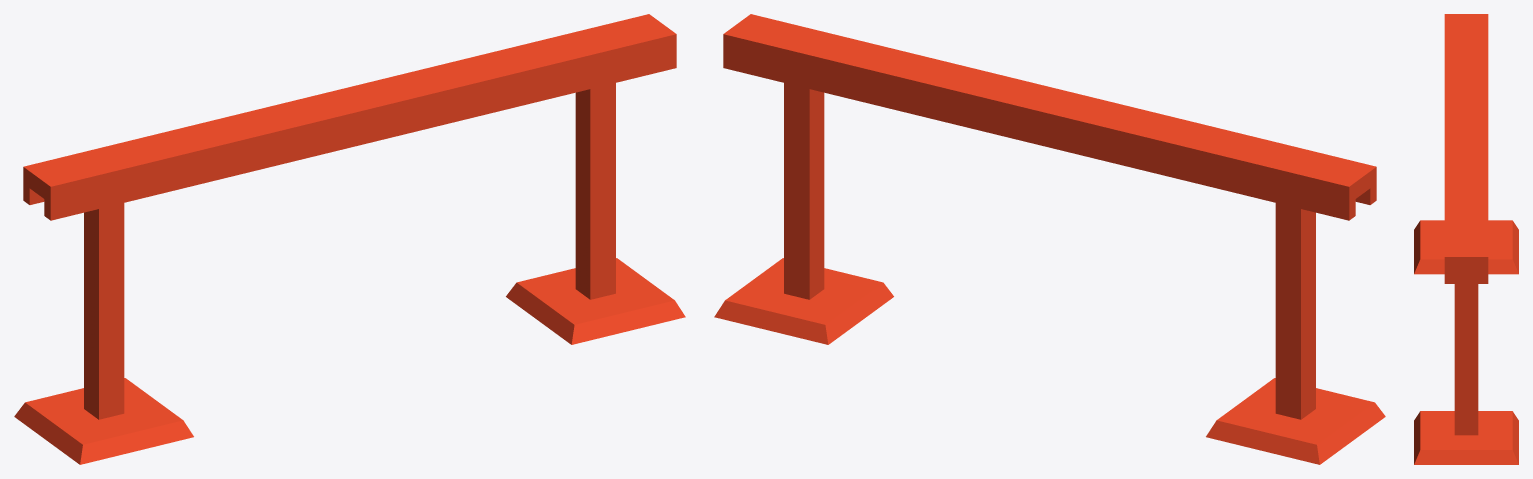
File: SM_Vent_Holder_A_City.fbx
3 renders of one model, left to right at view 1: azimuth 30°, elevation 25°; view 2: azimuth 150°, elevation 25°; view 3: azimuth 270°, elevation 25°, orthographic. The views are drawn at different scales.
Visible parts, largest first — view 1: SM_Vent_Holder_A_City; view 2: SM_Vent_Holder_A_City; view 3: SM_Vent_Holder_A_City.
Boxes of the visible parts, x1,y1,x2,y2 form: SM_Vent_Holder_A_City: (14, 14, 685, 464); SM_Vent_Holder_A_City: (714, 14, 1385, 464); SM_Vent_Holder_A_City: (1414, 14, 1518, 464).
Size of the model in its own units: 0.6282 by 0.2556 by 0.1147.
